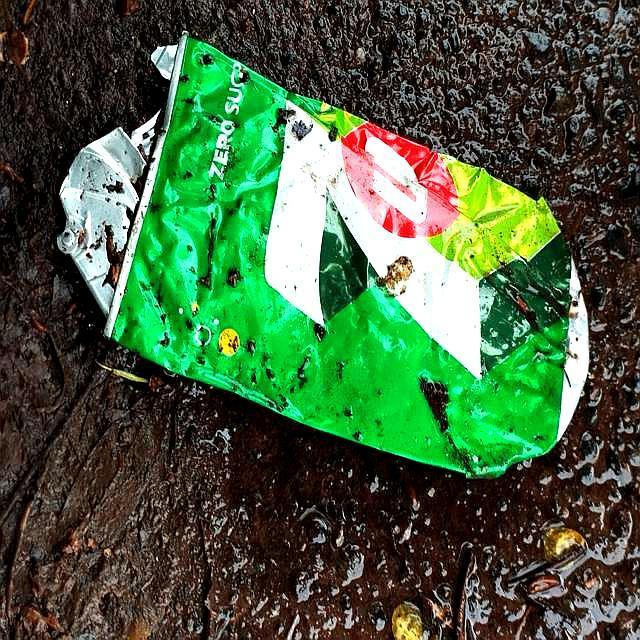Non-biodegradable: (58, 32, 592, 481)
